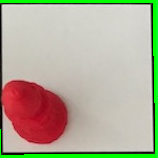Red Bishop: (2, 76, 72, 146)
